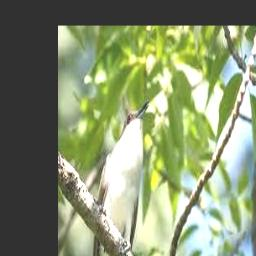Cuckoo: (92, 100, 150, 256)
